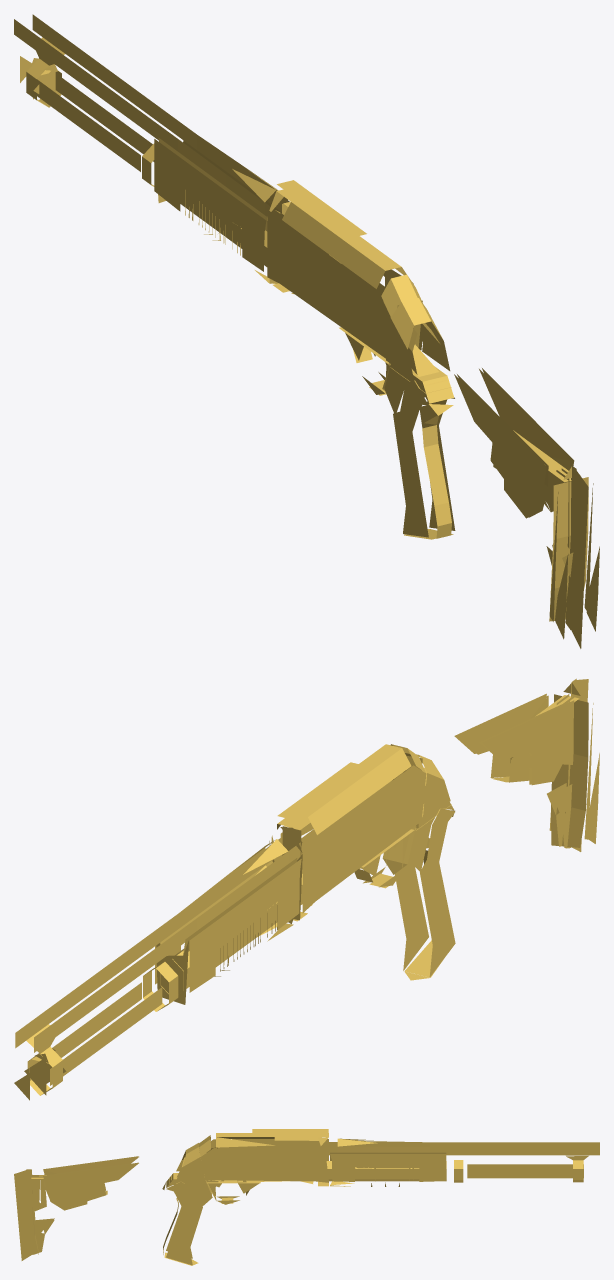
Rendered from charm_mst_shotgun_2.glb.
3 views of the same model, one above another, from view 1: azimuth 30°, elevation 25°; view 2: azimuth 150°, elevation 25°; view 3: azimuth 270°, elevation 25° (orthographic). The views are drawn at different scales.
Parts seen in each view (by area): view 1: p0_paint; view 2: p0_paint; view 3: p0_paint.
Boxes of the visible parts, x1=… form: p0_paint: x1=14, y1=14, x2=599, y2=648; p0_paint: x1=14, y1=678, x2=599, y2=1100; p0_paint: x1=14, y1=1129, x2=599, y2=1265.
Bounding box in the file's own units: 0.0374 × 0.2513 × 1.01.
